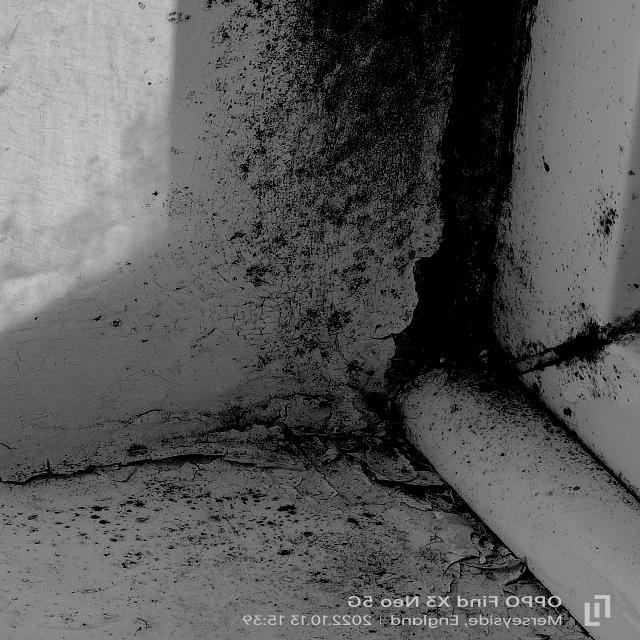stain marks: (198, 0, 542, 464), (1, 541, 572, 635), (0, 469, 544, 546), (73, 175, 196, 465), (545, 0, 640, 292), (535, 294, 636, 412), (546, 413, 640, 536), (155, 2, 197, 46)
